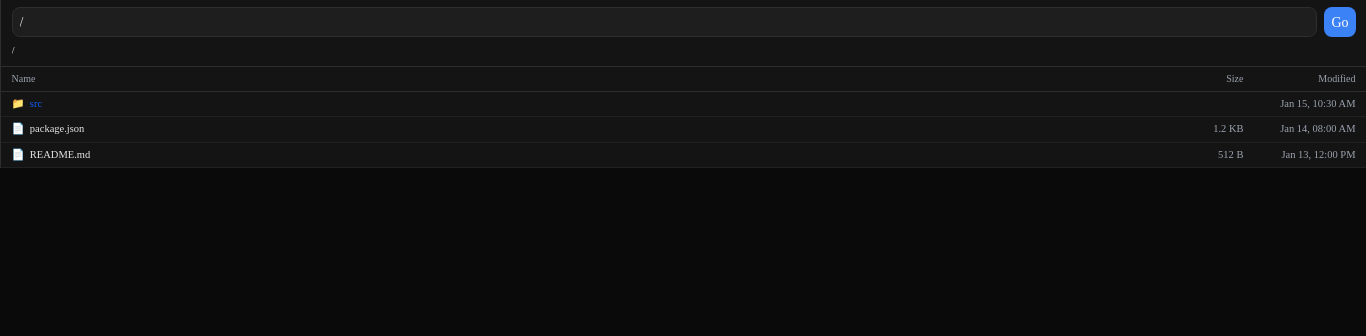
Test: FileBrowser › close file › closes the file viewer when close button is clicked
Click the text "package.json". click: point(57, 129)
box: [30, 123, 84, 134]
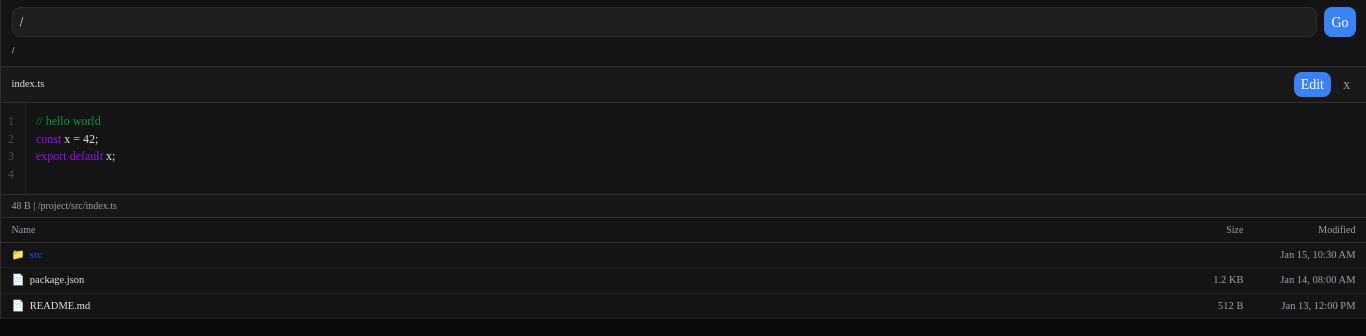
Expected: the text "// hello world" is shown, [36, 114, 101, 128]
Click the button named "Close file". click: point(1347, 84)
box: [1338, 72, 1356, 96]
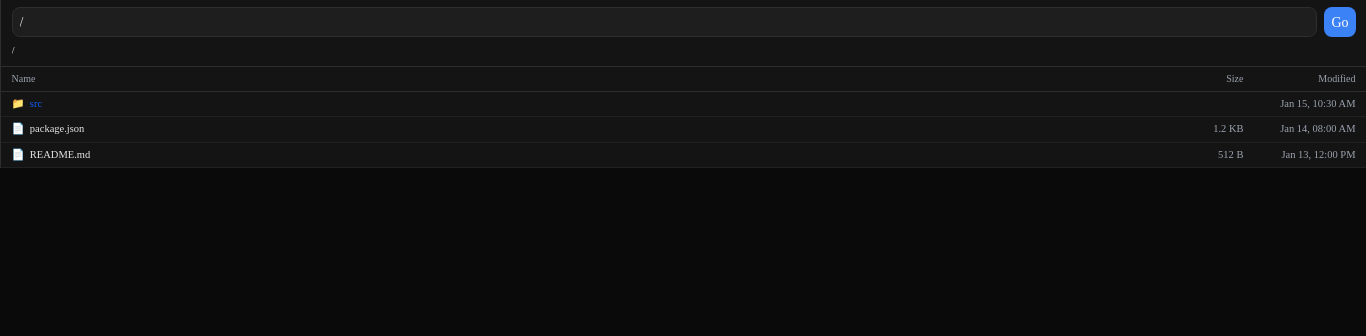
Expected: the text "hello world" is gone
